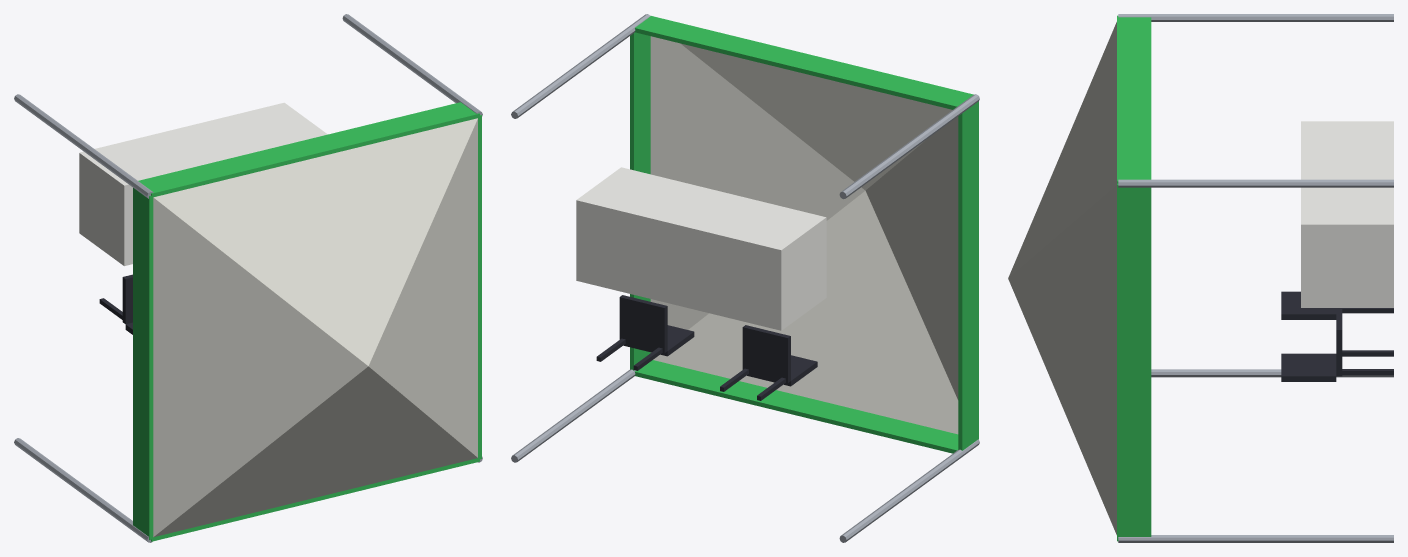
Rendered from tente.glb.
3 renders of one model, left to right at view 1: azimuth 30°, elevation 25°; view 2: azimuth 150°, elevation 25°; view 3: azimuth 270°, elevation 25°, orthographic. The views are drawn at different scales.
Visible parts, largest first — view 1: toit, table, lambrequin.003, lambrequin.002, lambrequin, pied.001, pied, pied.003, lambrequin.001; view 2: toit, table, lambrequin.003, lambrequin.002, lambrequin, lambrequin.001, assise.001, assise, pied.001, pied, pied.003, pied.002 (+2 smaller); view 3: toit, table, lambrequin.001, lambrequin.002, pied.003, pied.002, pied.001, dossier.001, pied, dossier, assise.001.
Part boxes in pixels (<box>): toit: <box>153,118,477,537</box>; table: <box>79,102,327,265</box>; lambrequin.003: <box>133,188,153,539</box>; lambrequin.002: <box>138,102,479,197</box>; lambrequin: <box>151,457,479,541</box>; pied.001: <box>14,94,153,198</box>; pied: <box>14,438,152,542</box>; pied.003: <box>342,14,482,116</box>; lambrequin.001: <box>478,115,481,459</box>; toit: <box>650,36,958,434</box>; table: <box>576,167,826,330</box>; lambrequin.003: <box>958,101,978,450</box>; lambrequin.002: <box>635,16,973,109</box>; lambrequin: <box>635,360,958,453</box>; lambrequin.001: <box>630,32,650,370</box>; assise.001: <box>619,295,667,353</box>; assise: <box>742,325,790,383</box>; pied.001: <box>839,94,979,199</box>; pied: <box>839,439,979,542</box>; pied.003: <box>511,14,650,118</box>; pied.002: <box>511,369,635,462</box>; toit: <box>1008,22,1116,534</box>; table: <box>1301,121,1393,307</box>; lambrequin.001: <box>1117,183,1151,539</box>; lambrequin.002: <box>1117,15,1151,183</box>; pied.003: <box>1118,179,1393,187</box>; pied.002: <box>1118,535,1393,542</box>; pied.001: <box>1118,14,1393,21</box>; dossier.001: <box>1281,353,1336,381</box>; pied: <box>1151,369,1393,377</box>; dossier: <box>1281,291,1336,319</box>; assise.001: <box>1336,308,1342,376</box>.
Bounding box in the file's own units: 3.27 × 3.27 × 3.15.
